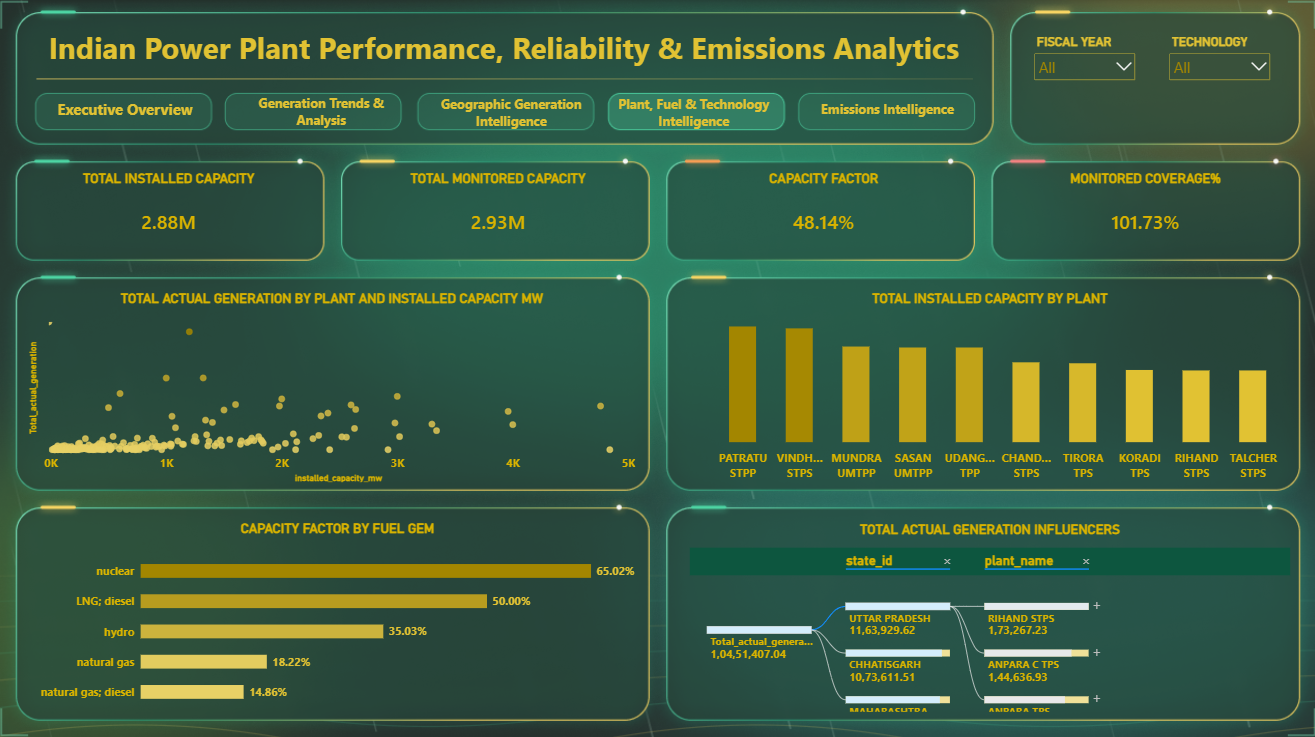

What the dashboard file says about the page in this screenshot:
{"tool":"powerbi","page":{"name":"Page 4","canvas":[1920,1080],"ordinal":3},"visuals":[{"type":"scatterChart","title":"TOTAL ACTUAL GENERATION BY PLANT AND INSTALLED CAPACITY MW","fields":{"X":["Dim_PlantUnitYear.installed_capacity_mw"],"Y":["calculation_table.Total_actual_generation"]},"box":[32.6,409,910.3,307.6],"z":0},{"type":"clusteredBarChart","title":"CAPACITY FACTOR BY FUEL GEM","fields":{"Category":["Dim_Fuel.fuel_gem"],"Y":["calculation_table.capacity_factor"]},"box":[48.9,742,894,307.6],"z":1000},{"type":"decompositionTreeVisual","title":"TOTAL ACTUAL GENERATION INFLUENCERS","fields":{"Analyze":["calculation_table.Total_actual_generation"],"ExplainBy":["Fact_PowerGeneration.state_id","Dim_PlantUnitYear.plant_name","Fact_PowerGeneration.unit_status","Fact_PowerGeneration.technology"]},"box":[989.9,743.8,901.2,305.8],"z":2000},{"type":"card","title":"TOTAL INSTALLED CAPACITY","fields":{"Values":["calculation_table.total_installed_capacity"]},"box":[32.6,235.3,437.9,143],"z":3000},{"type":"card","title":"TOTAL MONITORED CAPACITY","fields":{"Values":["calculation_table.total_monitored_capacity"]},"box":[513.9,235.3,428.9,143],"z":4000},{"type":"card","title":"CAPACITY FACTOR","fields":{"Values":["calculation_table.capacity_factor"]},"box":[989.9,235.3,419.8,143],"z":5000},{"type":"card","title":"MONITORED COVERAGE%","fields":{"Values":["calculation_table.Monitored coverage %"]},"box":[1440.5,235.3,450.6,143],"z":6000},{"type":"clusteredColumnChart","title":"TOTAL INSTALLED CAPACITY BY PLANT","fields":{"Category":["Dim_PlantUnitYear.plant_name"],"Y":["calculation_table.total_installed_capacity"]},"box":[989.9,409,901.2,307.6],"z":7000},{"type":"textbox","box":[77.8,41.6,1512.9,150.2],"z":8000,"group":"g1"},{"type":"slicer","fields":{"Values":["Dim_PlantUnitYear.fiscal_year"]},"box":[1500.2,52.5,155.6,150.2],"z":8000},{"type":"slicer","fields":{"Values":["Dim_technology.technology"]},"box":[1695.7,52.5,155.6,150.2],"z":9000},{"type":"pageNavigator","box":[56.1,141.1,1357.2,50.7],"z":9000,"group":"g1"},{"type":"group","id":"g1","title":"Group 1","box":[56.1,41.6,1534.6,159.3],"z":10000},{"type":"textbox","box":[77.8,146.6,220.8,39.8],"z":10000,"group":"g1"},{"type":"textbox","box":[352.9,139.3,238.9,52.5],"z":11000,"group":"g1"},{"type":"textbox","box":[637,141.1,220.8,59.7],"z":12000,"group":"g1"},{"type":"textbox","box":[901.2,141.1,220.8,54.3],"z":13000,"group":"g1"},{"type":"textbox","box":[1181.5,149.1,220.8,36.2],"z":14000,"group":"g1"}]}

Visuals, with their boxes in screenshot pixels (x1, y1, x2, y2), scaled from the page's 1920x1080 canvas onto the 1315x737 screenshot:
"TOTAL ACTUAL GENERATION BY PLANT AND INSTALLED CAPACITY MW" scatterChart: l=22, t=279, r=646, b=489
"CAPACITY FACTOR BY FUEL GEM" clusteredBarChart: l=33, t=506, r=646, b=716
"TOTAL ACTUAL GENERATION INFLUENCERS" decompositionTreeVisual: l=678, t=508, r=1295, b=716
"TOTAL INSTALLED CAPACITY" card: l=22, t=161, r=322, b=258
"TOTAL MONITORED CAPACITY" card: l=352, t=161, r=646, b=258
"CAPACITY FACTOR" card: l=678, t=161, r=965, b=258
"MONITORED COVERAGE%" card: l=987, t=161, r=1295, b=258
"TOTAL INSTALLED CAPACITY BY PLANT" clusteredColumnChart: l=678, t=279, r=1295, b=489
textbox: l=53, t=28, r=1089, b=131
slicer - Dim_PlantUnitYear.fiscal_year: l=1027, t=36, r=1134, b=138
slicer - Dim_technology.technology: l=1161, t=36, r=1268, b=138
pageNavigator: l=38, t=96, r=968, b=131
"Group 1" group: l=38, t=28, r=1089, b=137
textbox: l=53, t=100, r=205, b=127
textbox: l=242, t=95, r=405, b=131
textbox: l=436, t=96, r=588, b=137
textbox: l=617, t=96, r=768, b=133
textbox: l=809, t=102, r=960, b=126
